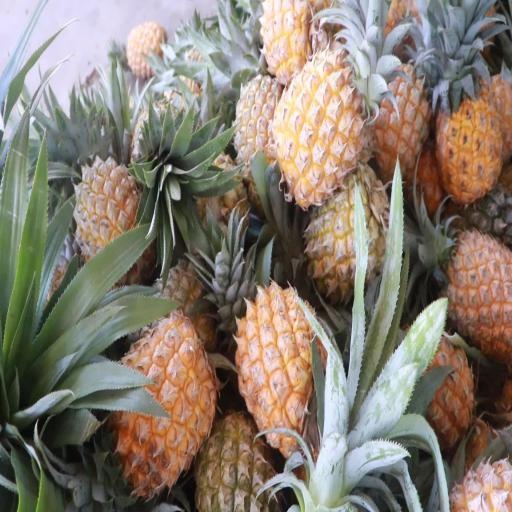------------------------------: (304, 179, 389, 300)
Pineapple - v8 v1: (100, 318, 216, 480), (235, 284, 326, 442), (276, 59, 363, 208), (426, 228, 512, 345), (398, 330, 476, 453), (365, 56, 430, 176), (436, 88, 502, 204), (262, 0, 330, 82)
